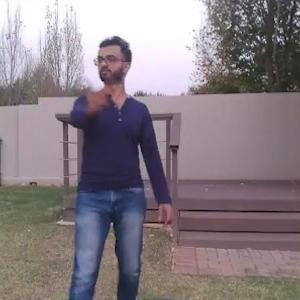takeoff-hand: (79, 71, 107, 112)
